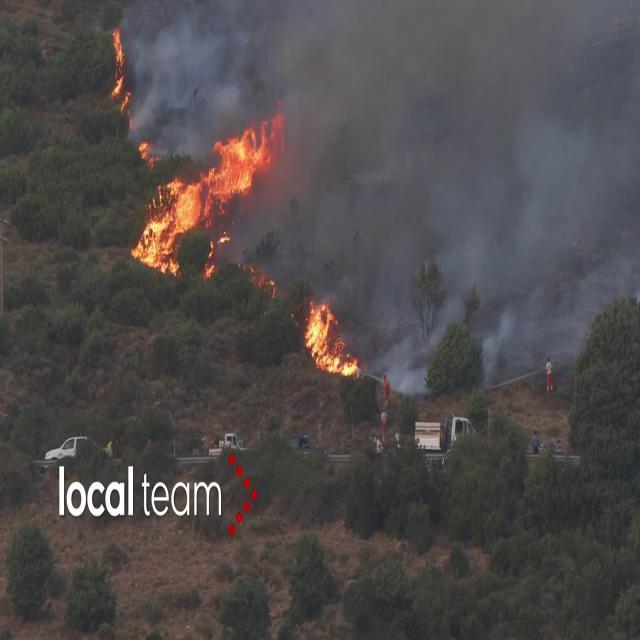Fire: (128, 120, 278, 280), (300, 296, 360, 380)
Smoke: (227, 1, 640, 373)
